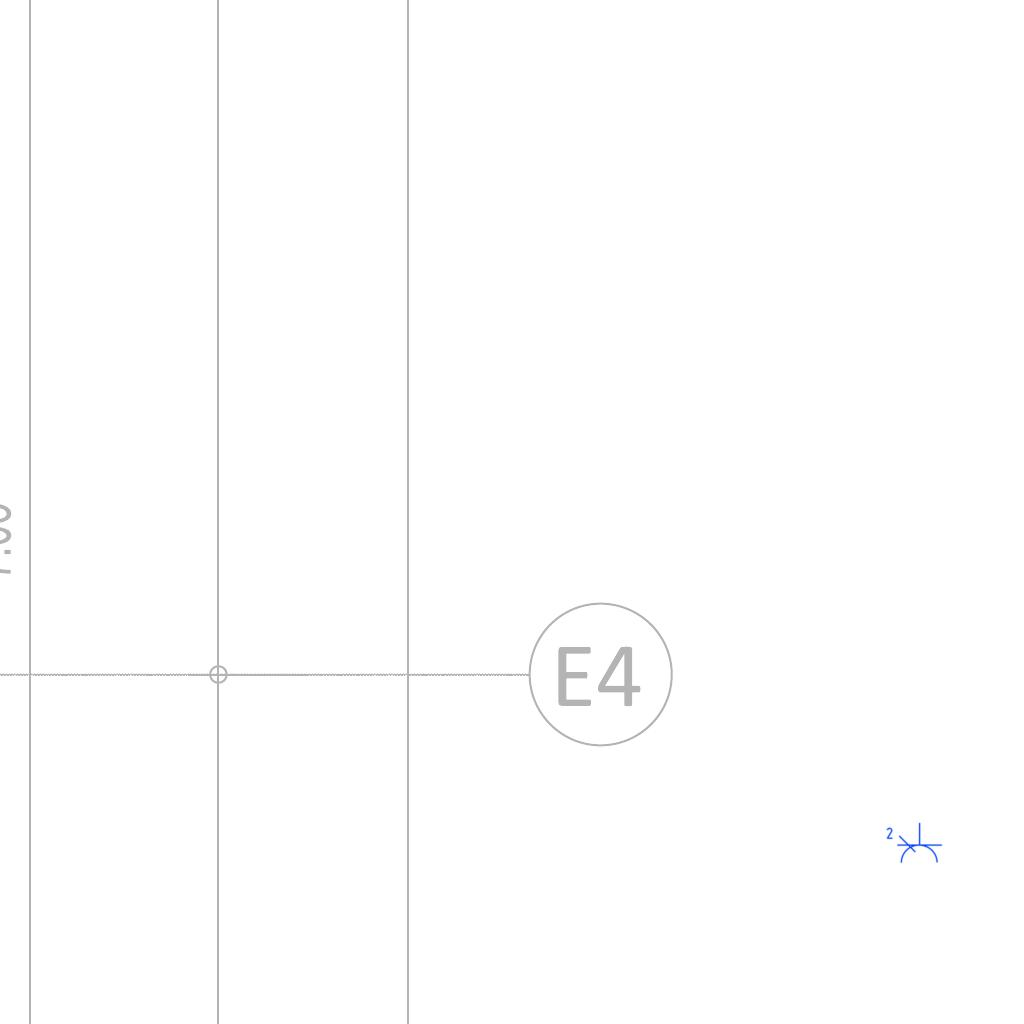Schukosteckdose_mehrfach: (883, 822, 943, 866)
